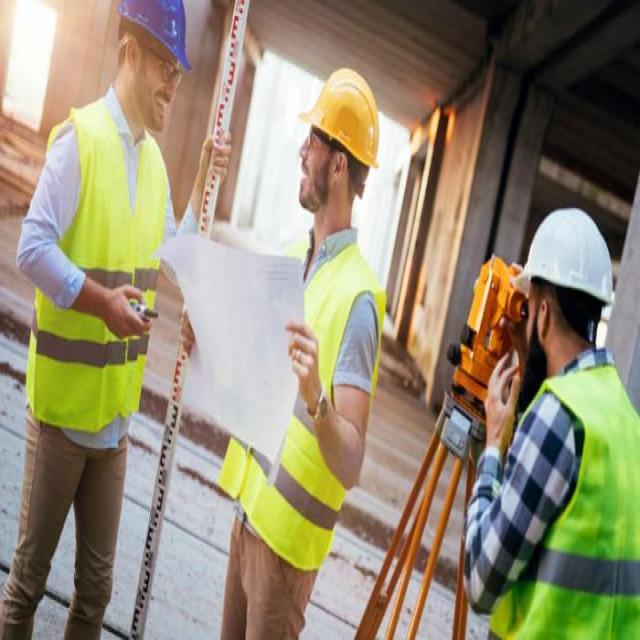Reflective-Jacket: (214, 235, 386, 582), (21, 102, 172, 445), (476, 357, 639, 640)
Safety-Helmet: (509, 197, 619, 315), (300, 61, 384, 174), (114, 2, 196, 82)
